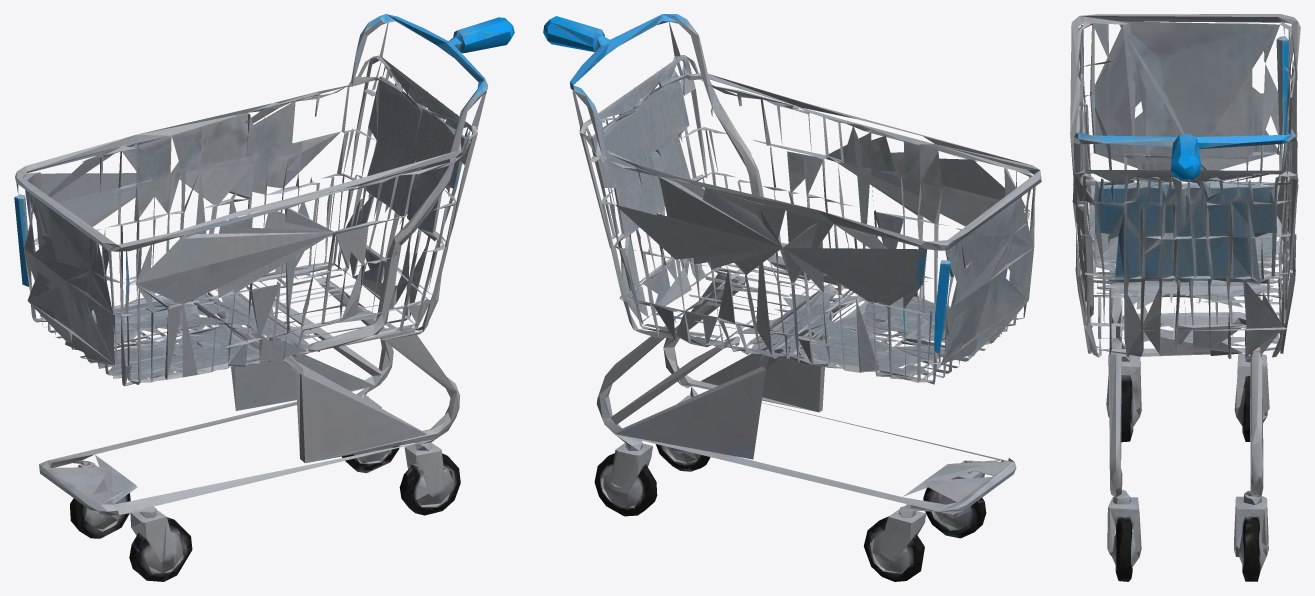
Rendered from addy_shopping_cart.glb.
3 views of the same model, side by side, from view 1: azimuth 30°, elevation 25°; view 2: azimuth 150°, elevation 25°; view 3: azimuth 270°, elevation 25° (orthographic). The views are drawn at different scales.
Size of the model in its own units: 1.9 by 1.8 by 0.788.
Materials: 1 (1 with a texture image).
